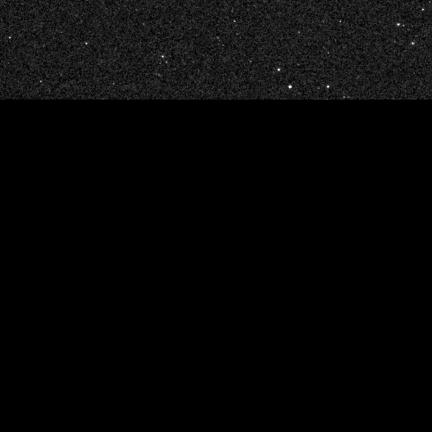blob: (411, 42, 415, 46), (397, 23, 400, 27), (289, 85, 292, 89), (327, 86, 330, 89), (278, 69, 281, 72)
